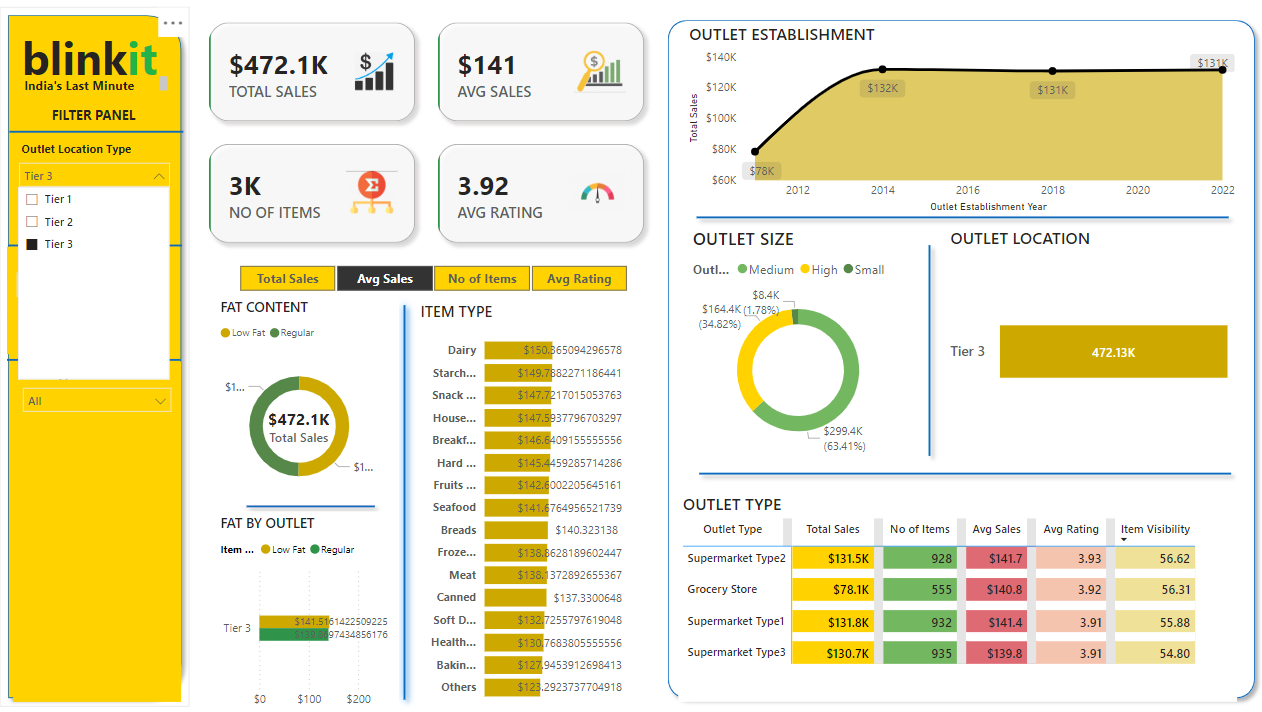

The page's visual inventory and layout, read from the dashboard file:
{"tool":"powerbi","page":{"name":"Page 1","canvas":[1400,800],"ordinal":0},"visuals":[{"type":"shape","box":[13.5,25.5,204.1,750.4],"z":0},{"type":"textbox","box":[31.5,42,171.1,84],"z":1000},{"type":"textbox","box":[34.5,94.6,163.6,31.5],"z":2000},{"type":"cardVisual","fields":{"Data":["BlinkIT Grocery Data.Total Sales","BlinkIT Grocery Data.Avg Sales","BlinkIT Grocery Data.No of Items","BlinkIT Grocery Data.Avg Rating"]},"box":[221.2,25.5,500,270.8],"z":3000},{"type":"donutChart","title":"FAT CONTENT","fields":{"Y":["BlinkIT Grocery Data.No of Items"],"Category":["BlinkIT Grocery Data.Item Fat Content"]},"box":[245.3,336.5,179.6,230.6],"z":4000},{"type":"slicer","fields":{"Values":["Metrics.Metrics"]},"box":[245.3,296.2,465.1,40.2],"z":5000},{"type":"cardVisual","fields":{"Data":["BlinkIT Grocery Data.Total Sales"]},"box":[282.8,437,103.2,77.7],"z":6000},{"type":"clusteredBarChart","title":"FAT BY OUTLET","fields":{"Y":["BlinkIT Grocery Data.No of Items"],"Category":["BlinkIT Grocery Data.Outlet Location Type"],"Series":["BlinkIT Grocery Data.Item Fat Content"]},"box":[245.3,568.4,202.4,217.2],"z":7000},{"type":"shape","box":[435.7,336.5,24.1,441],"z":8000},{"type":"shape","box":[269.4,552.3,155.5,14.7],"z":9000},{"type":"barChart","title":"ITEM TYPE","fields":{"Y":["BlinkIT Grocery Data.No of Items"],"Category":["BlinkIT Grocery Data.Item Type"]},"box":[459.8,340.5,226.5,439.7],"z":10000},{"type":"shape","box":[721.2,30.8,647.5,745.3],"z":11000},{"type":"lineChart","title":"OUTLET ESTABLISHMENT","fields":{"Category":["BlinkIT Grocery Data.Outlet Establishment Year"],"Y":["BlinkIT Grocery Data.Total Sales"]},"box":[748,42.9,595.2,207.8],"z":12000},{"type":"donutChart","title":"OUTLET SIZE","fields":{"Y":["BlinkIT Grocery Data.Total Sales"],"Category":["BlinkIT Grocery Data.Outlet Size"]},"box":[752,261.4,235.9,253.4],"z":13000},{"type":"shape","box":[752,230.6,588.5,41.6],"z":14000},{"type":"funnel","title":"OUTLET LOCATION","fields":{"Category":["BlinkIT Grocery Data.Outlet Location Type"],"Y":["Sum(BlinkIT Grocery Data.Sales)"]},"box":[1028.2,261.4,312.3,244],"z":15000},{"type":"shape","box":[754.7,505.4,588.5,41.6],"z":16000},{"type":"pivotTable","title":"OUTLET TYPE","fields":{"Rows":["BlinkIT Grocery Data.Outlet Type"],"Values":["BlinkIT Grocery Data.Total Sales","BlinkIT Grocery Data.No of Items","BlinkIT Grocery Data.Avg Sales","BlinkIT Grocery Data.Avg Rating","Sum(BlinkIT Grocery Data.Item Visibility)"]},"box":[741.3,546.9,599.2,223.9],"z":17000},{"type":"shape","box":[992,272.1,37.5,244],"z":18000},{"type":"slicer","fields":{"Values":["BlinkIT Grocery Data.Outlet Location Type"]},"box":[24.1,164.9,182.3,108.6],"z":19000},{"type":"slicer","fields":{"Values":["BlinkIT Grocery Data.Outlet Size"]},"box":[21.4,282.8,182.3,115.3],"z":20000},{"type":"slicer","fields":{"Values":["BlinkIT Grocery Data.Item Type"]},"box":[28.2,406.2,179.6,364.6],"z":21000},{"type":"shape","box":[24.1,147.5,186.3,24.1],"z":22000},{"type":"shape","box":[22.8,273.5,186.3,16.1],"z":23000},{"type":"shape","box":[21.4,398.1,186.3,12.1],"z":24000},{"type":"textbox","box":[64.3,127.3,113.9,32.2],"z":25000}]}

Visuals, with their boxes on the page's 1400x800 design canvas (x1, y1, x2, y2). These are canvas units, not pixel positions in the 1262x712 screenshot, which may show the page scaled, cropped or inside an application window:
shape: [x1=14, y1=26, x2=218, y2=776]
textbox: [x1=32, y1=42, x2=203, y2=126]
textbox: [x1=34, y1=95, x2=198, y2=126]
cardVisual - BlinkIT Grocery Data.Total Sales x BlinkIT Grocery Data.Avg Sales: [x1=221, y1=26, x2=721, y2=296]
"FAT CONTENT" donutChart: [x1=245, y1=336, x2=425, y2=567]
slicer - Metrics.Metrics: [x1=245, y1=296, x2=710, y2=336]
cardVisual - BlinkIT Grocery Data.Total Sales: [x1=283, y1=437, x2=386, y2=515]
"FAT BY OUTLET" clusteredBarChart: [x1=245, y1=568, x2=448, y2=786]
shape: [x1=436, y1=336, x2=460, y2=778]
shape: [x1=269, y1=552, x2=425, y2=567]
"ITEM TYPE" barChart: [x1=460, y1=340, x2=686, y2=780]
shape: [x1=721, y1=31, x2=1369, y2=776]
"OUTLET ESTABLISHMENT" lineChart: [x1=748, y1=43, x2=1343, y2=251]
"OUTLET SIZE" donutChart: [x1=752, y1=261, x2=988, y2=515]
shape: [x1=752, y1=231, x2=1340, y2=272]
"OUTLET LOCATION" funnel: [x1=1028, y1=261, x2=1340, y2=505]
shape: [x1=755, y1=505, x2=1343, y2=547]
"OUTLET TYPE" pivotTable: [x1=741, y1=547, x2=1340, y2=771]
shape: [x1=992, y1=272, x2=1030, y2=516]
slicer - BlinkIT Grocery Data.Outlet Location Type: [x1=24, y1=165, x2=206, y2=274]
slicer - BlinkIT Grocery Data.Outlet Size: [x1=21, y1=283, x2=204, y2=398]
slicer - BlinkIT Grocery Data.Item Type: [x1=28, y1=406, x2=208, y2=771]
shape: [x1=24, y1=148, x2=210, y2=172]
shape: [x1=23, y1=274, x2=209, y2=290]
shape: [x1=21, y1=398, x2=208, y2=410]
textbox: [x1=64, y1=127, x2=178, y2=160]
